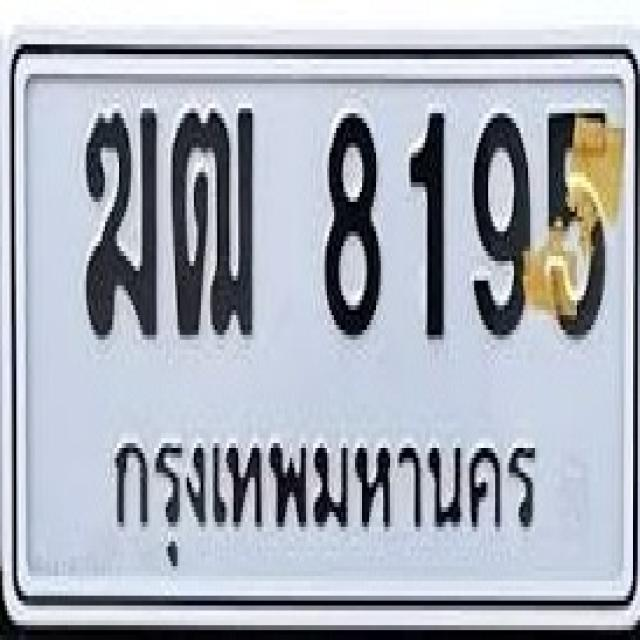license_plate: (2, 21, 640, 630)
